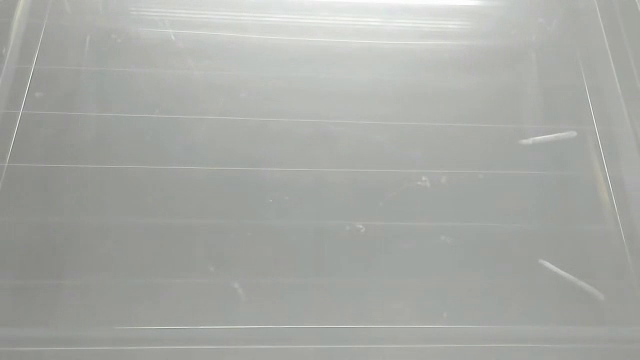alpha: (534, 255, 610, 303), (514, 127, 580, 148)
